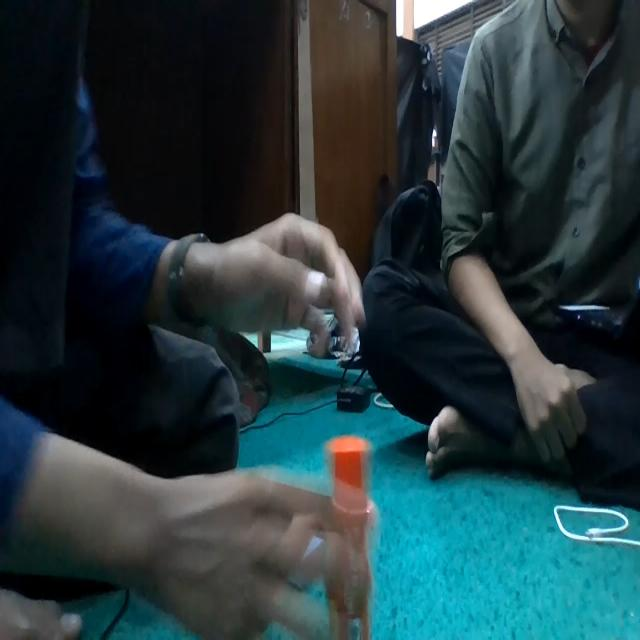Boncabe: (326, 436, 373, 554), (330, 594, 349, 639), (360, 601, 368, 639)
